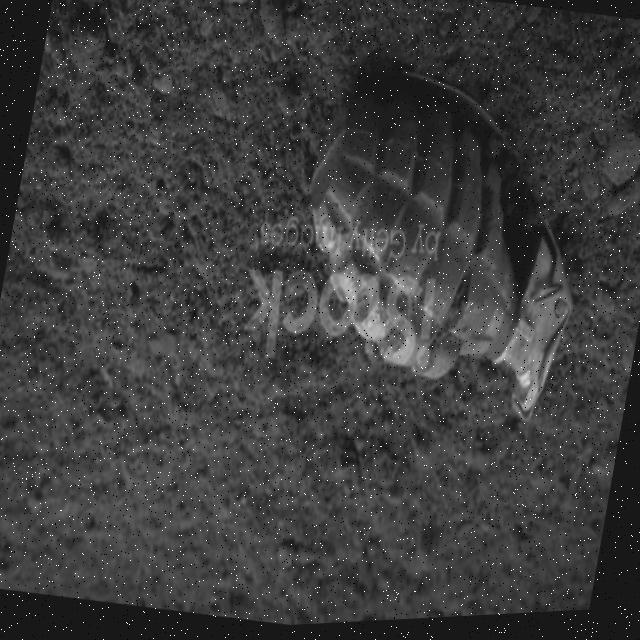grenade: (254, 25, 621, 457)
